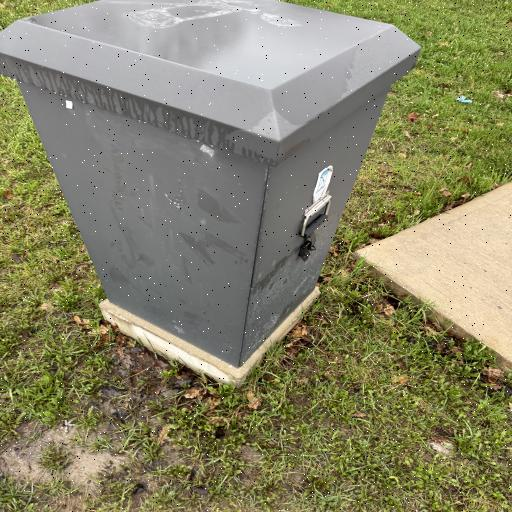Electrical Box: (1, 1, 425, 366)
